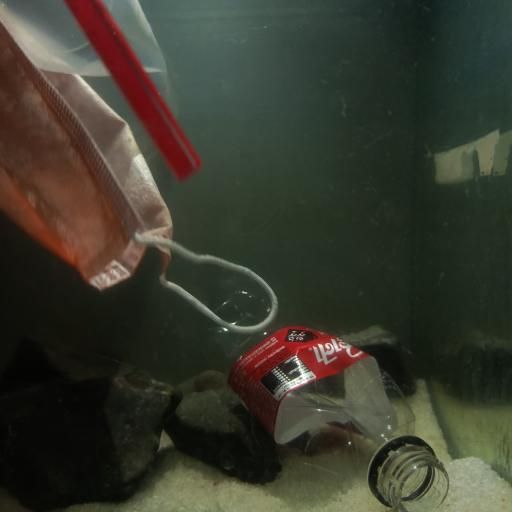mask: (0, 24, 279, 332)
plastic_bottle: (211, 285, 451, 512)
plastic_straw: (59, 1, 201, 178)
